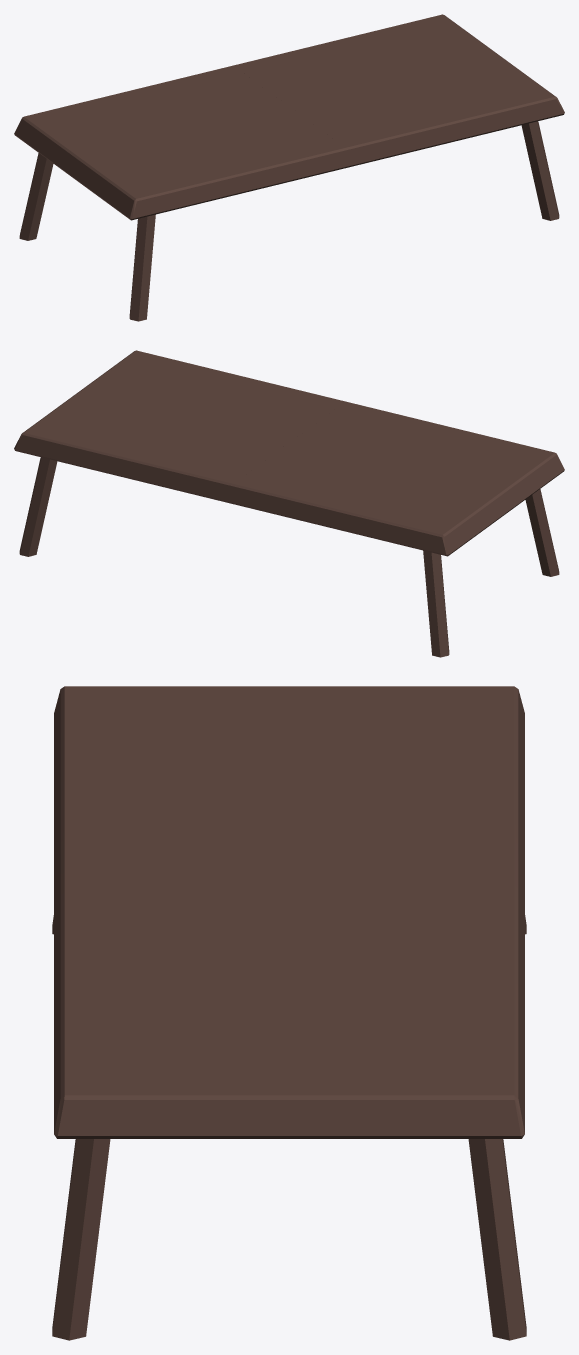
Rendered from TableSplit.fbx.
3 renders of one model, top to bottom at view 1: azimuth 30°, elevation 25°; view 2: azimuth 150°, elevation 25°; view 3: azimuth 270°, elevation 25°, orthographic. The views are drawn at different scales.
Parts seen in each view (by area): view 1: TableSurface, TableSurface1, TableSurface3, TableSurface2, TableLeg1, TableLeg, TableLeg2; view 2: TableSurface3, TableSurface2, TableSurface, TableSurface1, TableLeg2, TableLeg3, TableLeg1; view 3: TableSurface2, TableSurface1, TableSurface3, TableSurface, TableLeg3, TableLeg.
Boxes of the visible parts, x1,y1,x2,y2 form: TableSurface: (72, 106, 348, 220); TableSurface1: (290, 55, 564, 167); TableSurface3: (14, 65, 288, 177); TableSurface2: (233, 14, 499, 106); TableLeg1: (129, 214, 155, 321); TableLeg: (521, 121, 559, 220); TableLeg2: (19, 153, 53, 240); TableSurface3: (230, 442, 506, 556); TableSurface2: (14, 391, 288, 503); TableSurface: (290, 401, 564, 513); TableSurface1: (79, 350, 345, 442); TableLeg2: (423, 550, 449, 657); TableLeg3: (19, 457, 57, 556); TableLeg1: (525, 489, 559, 576); TableSurface2: (289, 890, 524, 1138); TableSurface1: (54, 890, 289, 1138); TableSurface3: (289, 686, 524, 922); TableSurface: (54, 686, 289, 922); TableLeg3: (468, 1139, 526, 1340); TableLeg: (52, 1139, 110, 1340).
Bounding box in the file's own units: 4.87 × 1.28 × 2.3.
1 material, 1 textured.
